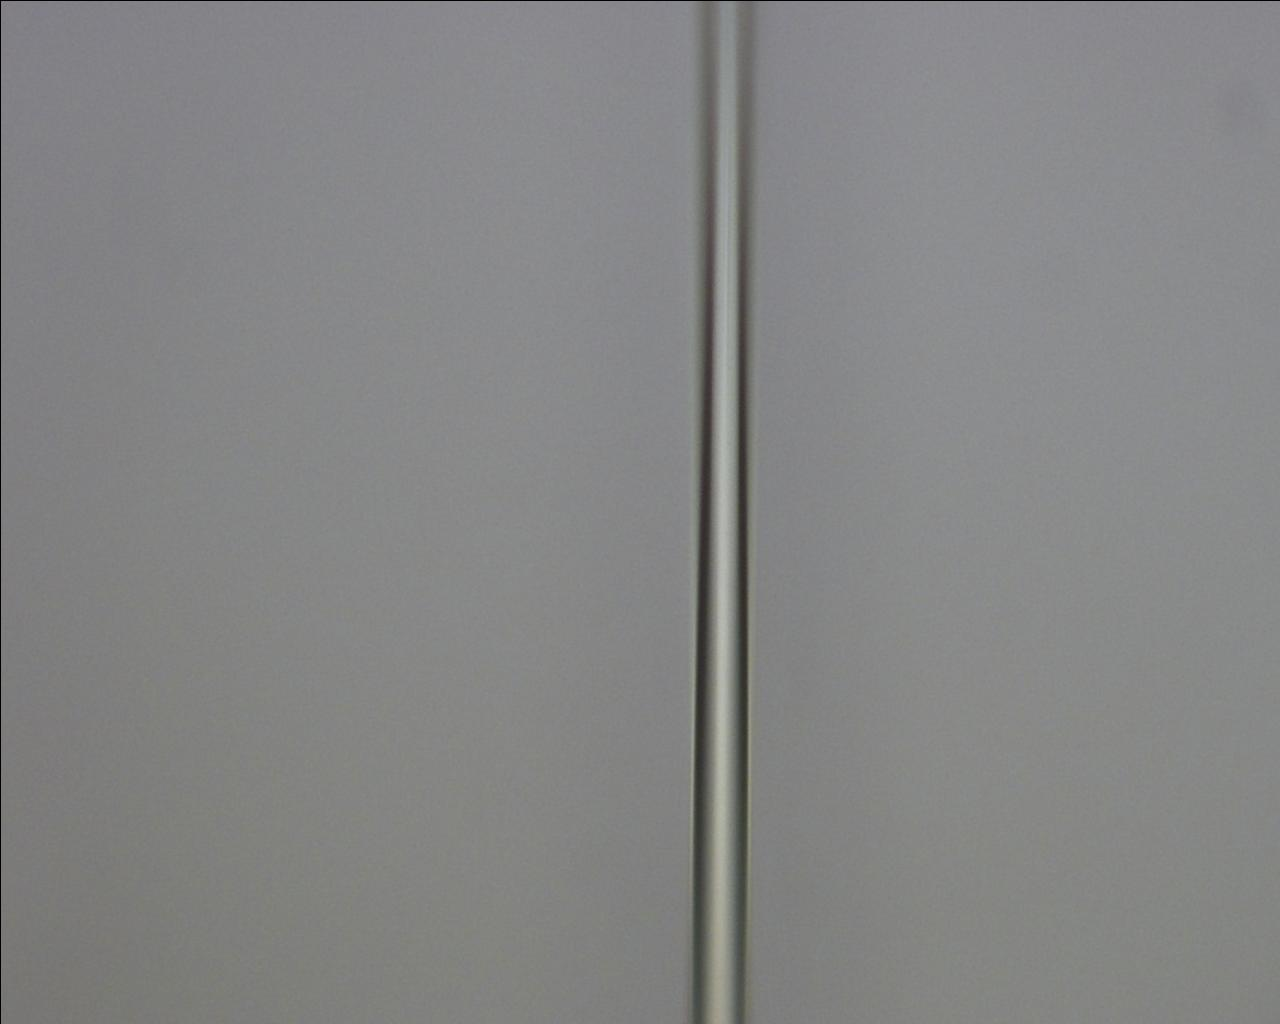fiber: (601, 706, 1280, 1024), (601, 255, 1280, 372), (0, 429, 601, 448)
